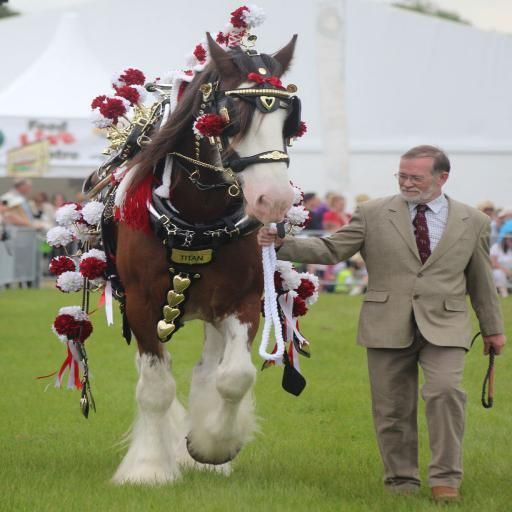horse: (106, 26, 298, 486)
